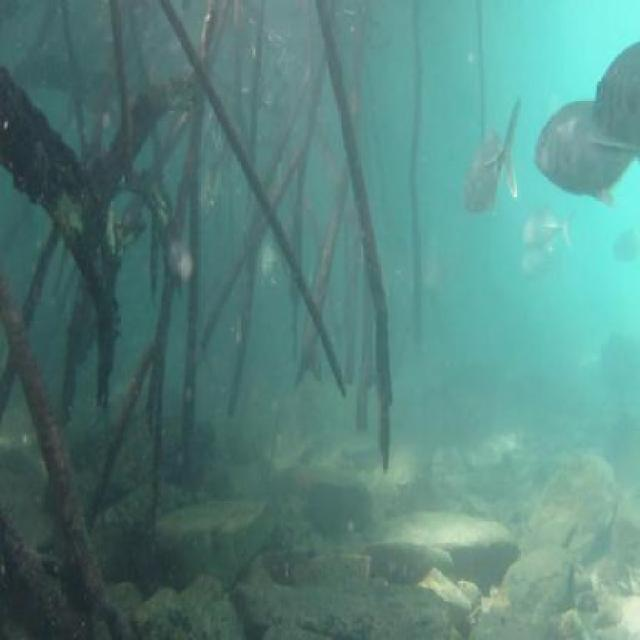Caranx_sexfasciatus_juvenile: (532, 85, 640, 212), (458, 89, 524, 228), (587, 25, 640, 156), (504, 234, 565, 286), (513, 202, 576, 250)
